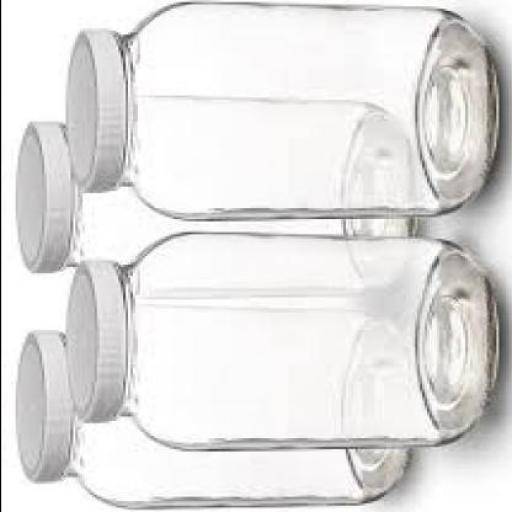glass: (112, 233, 498, 444), (113, 2, 493, 216), (60, 94, 414, 296), (52, 330, 407, 503)
plastic: (63, 258, 124, 421), (65, 28, 122, 188), (12, 328, 64, 482), (12, 119, 64, 271)
